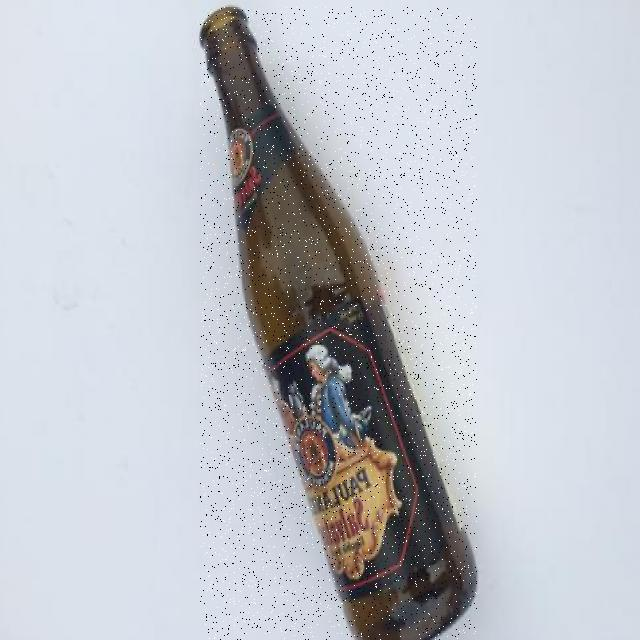glass: (201, 7, 477, 640)
